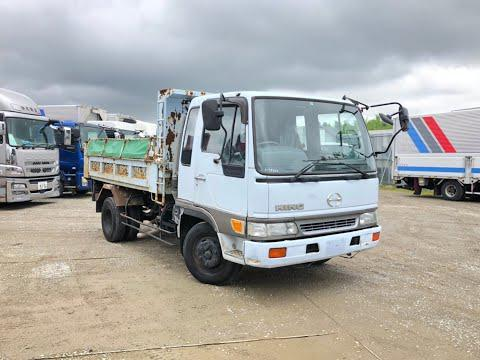truck: (84, 90, 380, 280), (394, 104, 480, 201)
